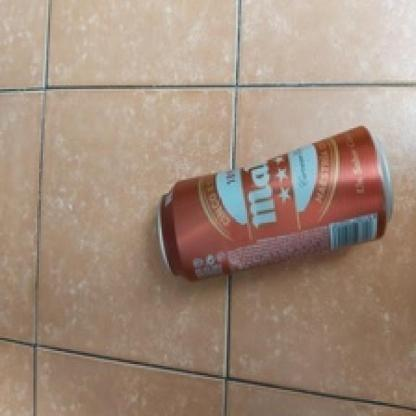Can: (157, 122, 393, 284)
